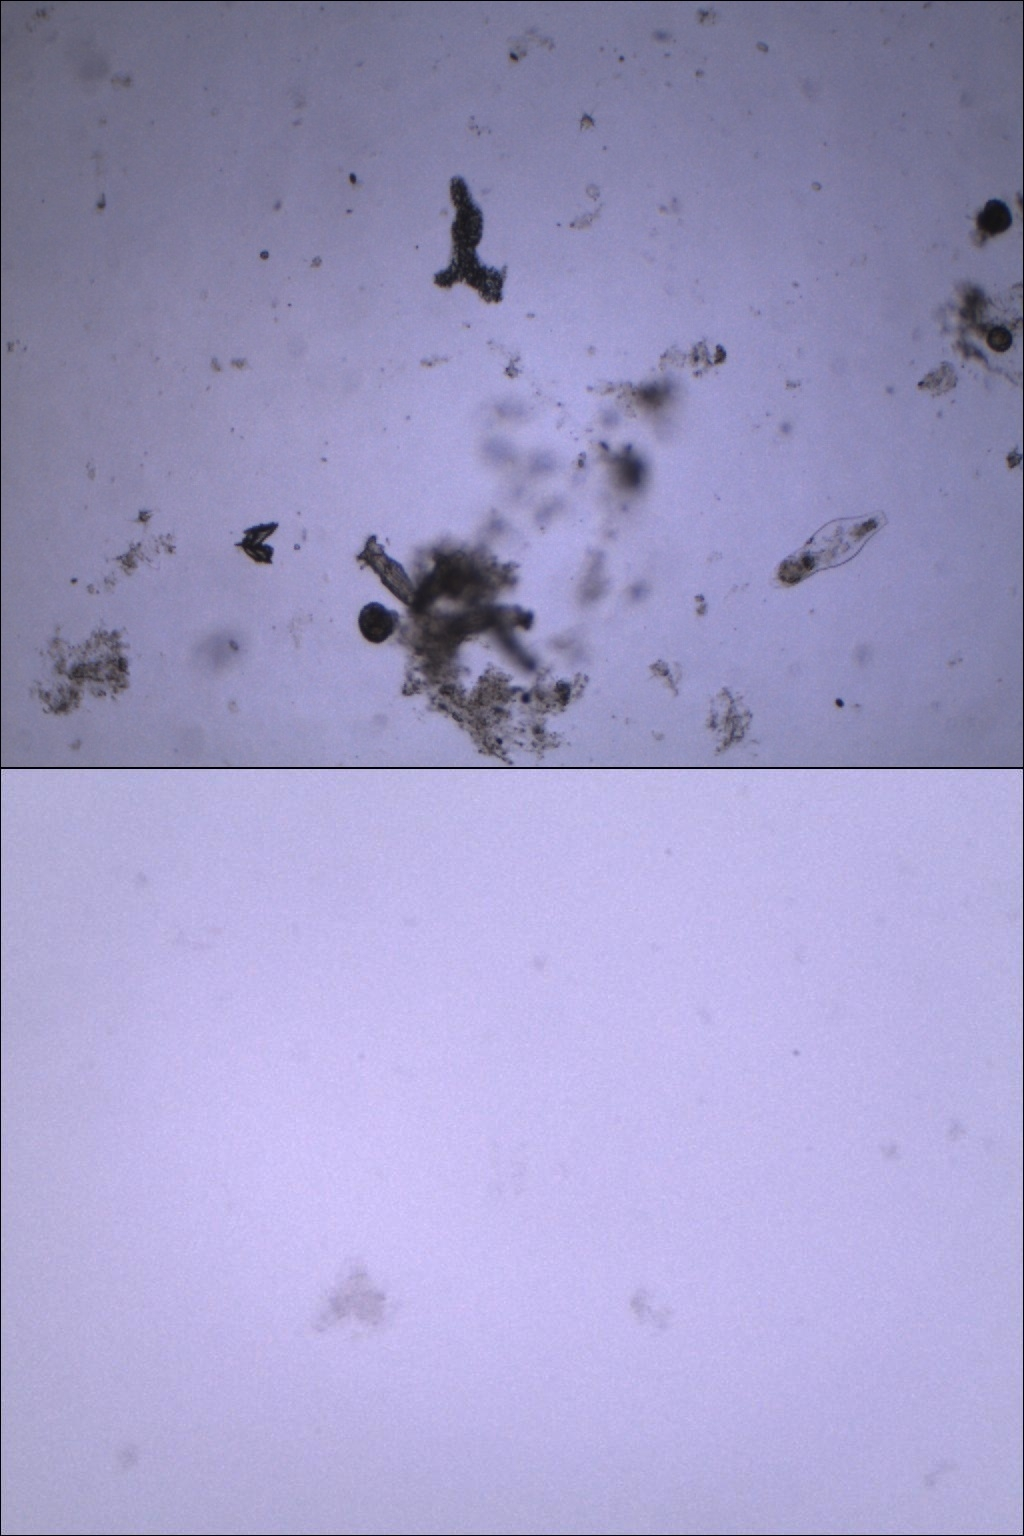N.Fowleri Amoeba: (296, 1243, 414, 1357)
Proteus Amoeba: (421, 162, 517, 311)
